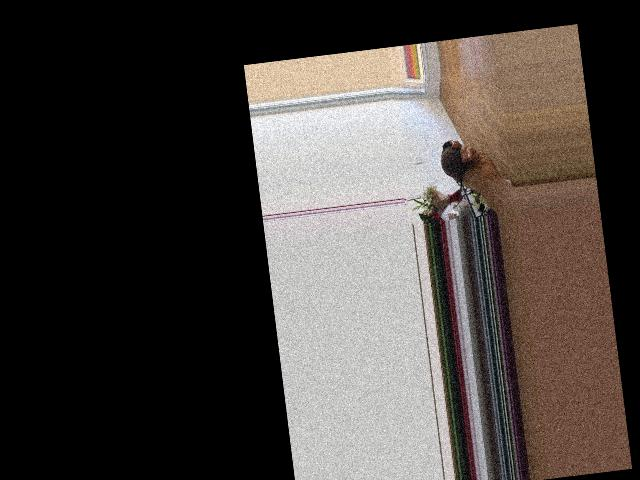beet: (438, 138, 470, 208)
